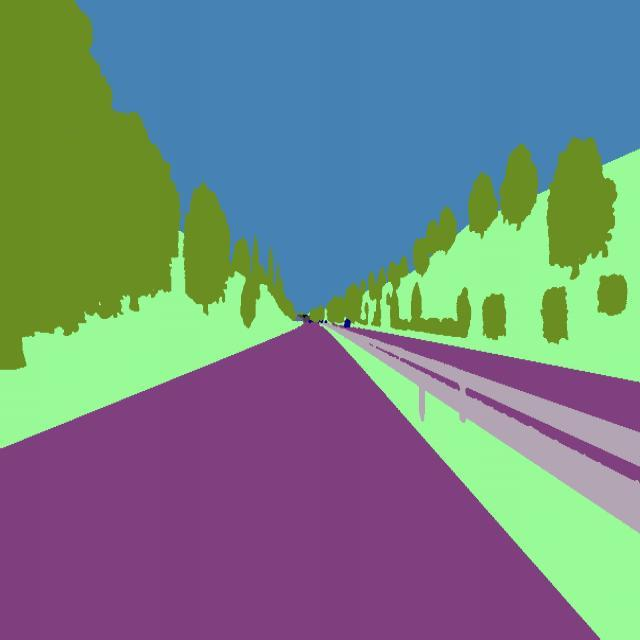safe: (341, 317, 353, 333)
